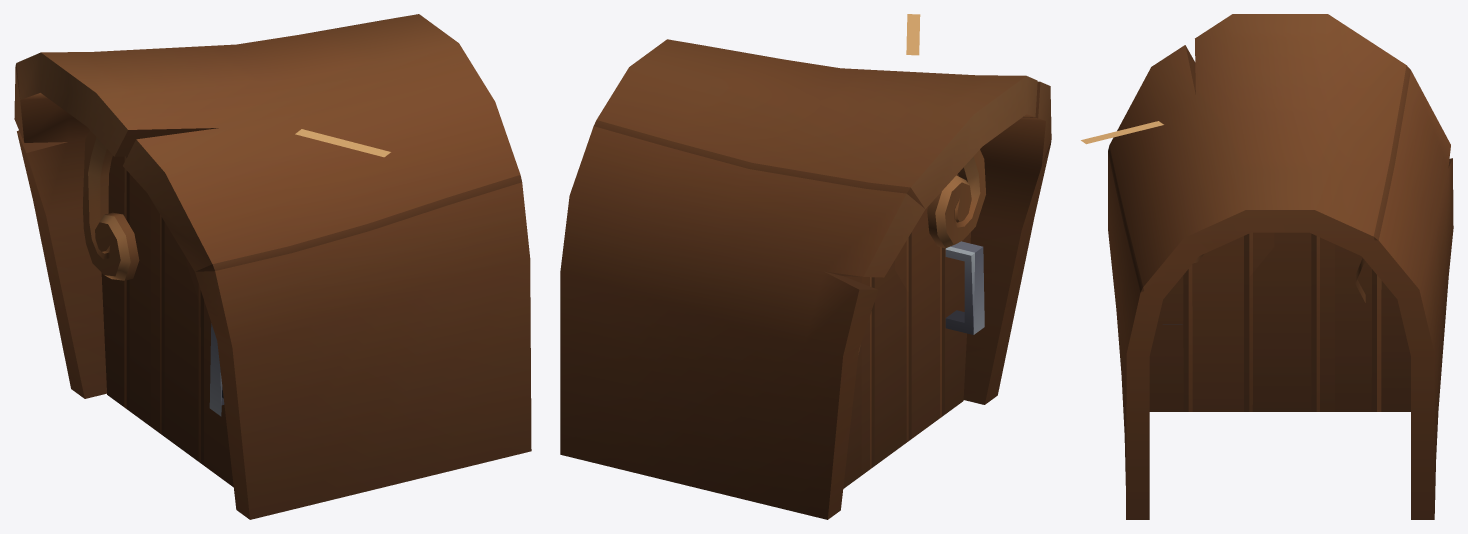
File: door.fbx
3 renders of one model, left to right at view 1: azimuth 30°, elevation 25°; view 2: azimuth 150°, elevation 25°; view 3: azimuth 270°, elevation 25°, orthographic. The views are drawn at different scales.
Parts seen in each view (by area): view 1: door; view 2: door; view 3: door.
Boxes of the visible parts, x1,y1,x2,y2 form: door: (14, 14, 531, 519); door: (560, 14, 1051, 519); door: (1081, 14, 1453, 519).
Size of the model in its own units: 31.97 by 32.75 by 31.66.
